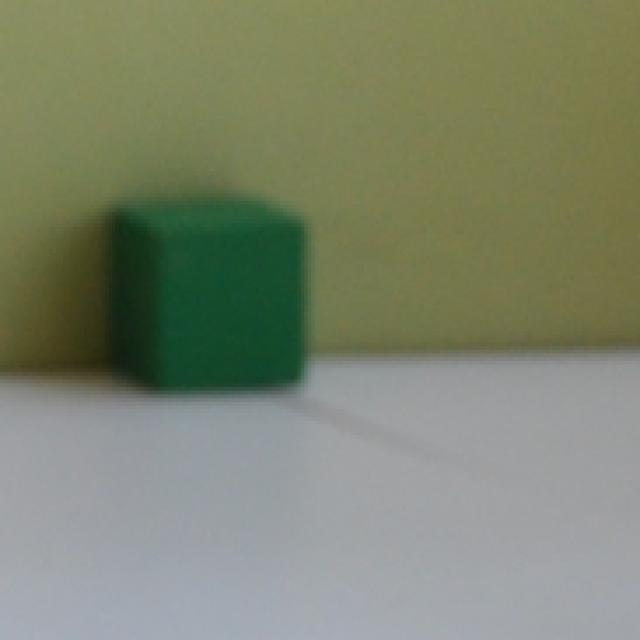green cube: (111, 186, 310, 390)
